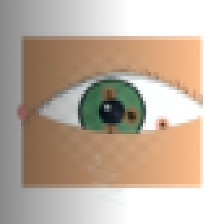foreign_body_visible: (96, 120, 125, 143)
